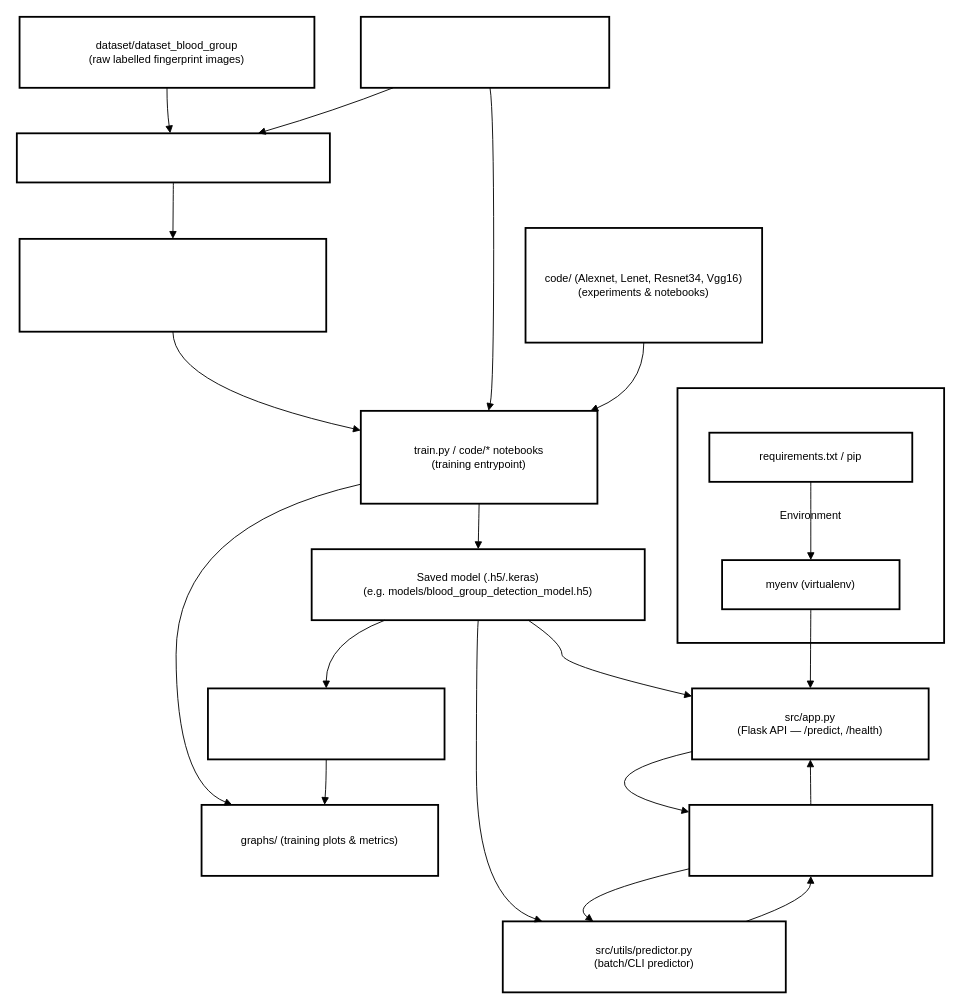
This 960x1008 diagram has some shape labels left out. The shapes that lost their labels are listed below. From the top down, each one's centre as x and y in pixels, then its label:
point (484, 51): config/config.json (runtime hyperparams & paths)
point (172, 157): src/data/data_loader.py (DataLoader)
point (172, 285): Preprocessing & Augmentation (ImageDataGenerator, preprocess_input)
point (326, 723): evaluate.py (evaluation & metrics)
point (810, 840): tools/test_predict.py (test client to POST images)
